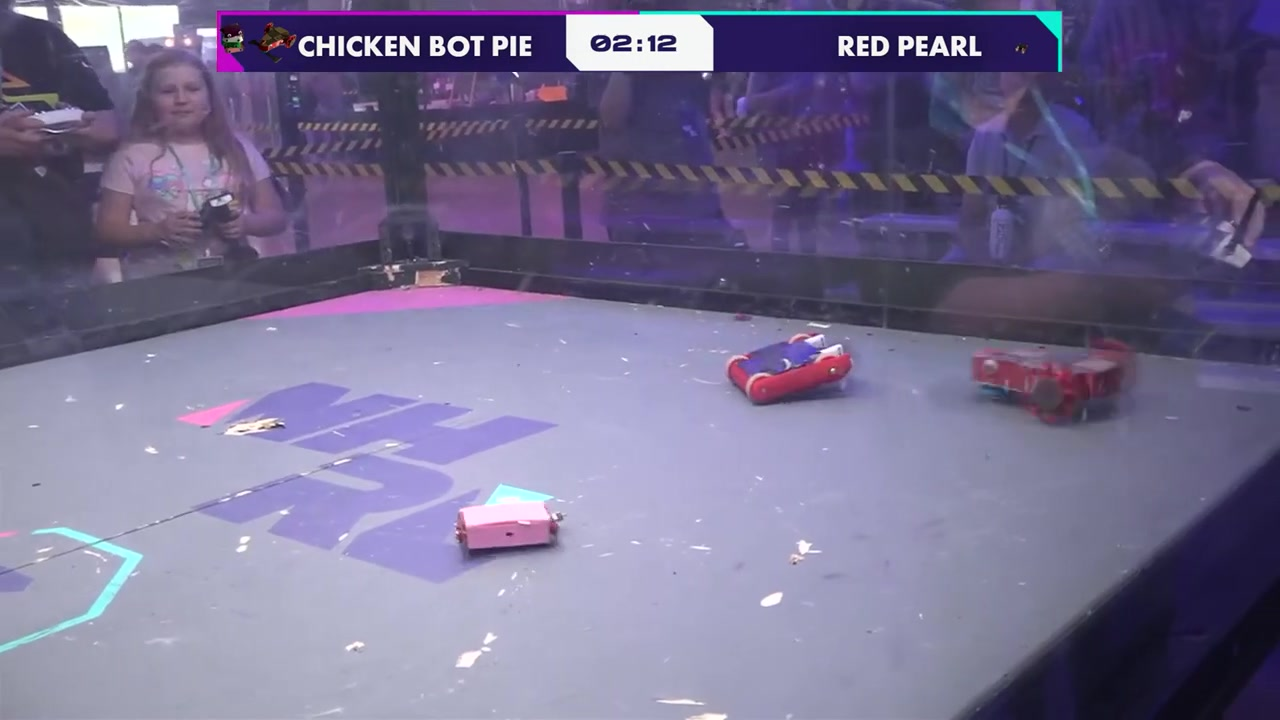combatbot: (969, 337, 1124, 429), (724, 330, 858, 408)
minibot: (454, 499, 568, 556)
